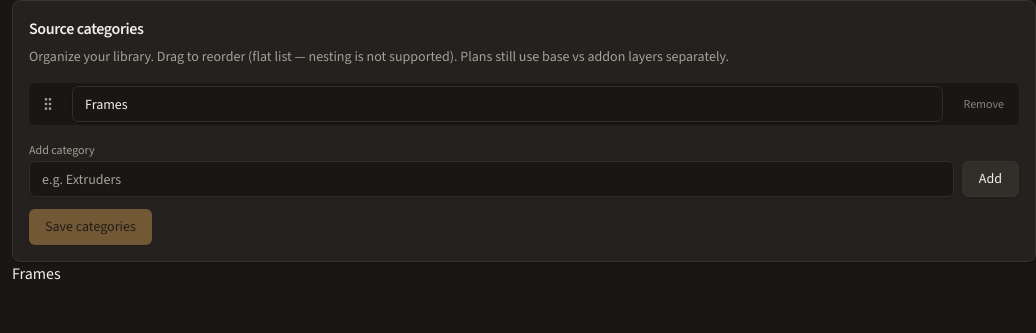
Test: SourceCategoryManager › keeps the edited draft when a save is rejected
Replace the text in the field named "Category 1" with "Edited frames" at (508, 104), box [72, 86, 943, 122]
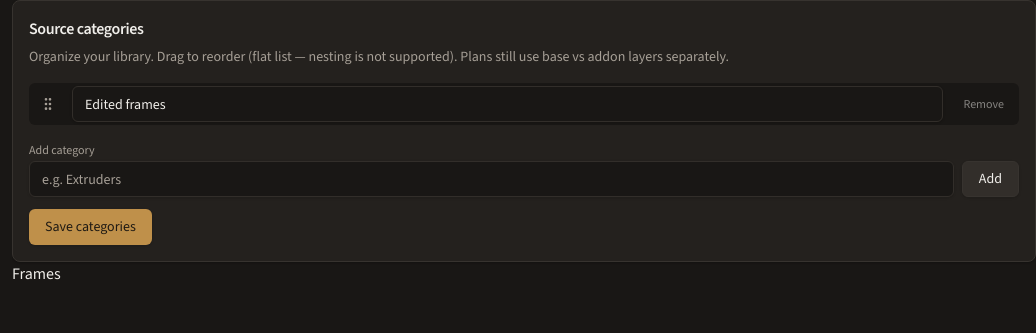
Click the button "Save categories" at (90, 227), box [29, 209, 152, 245]
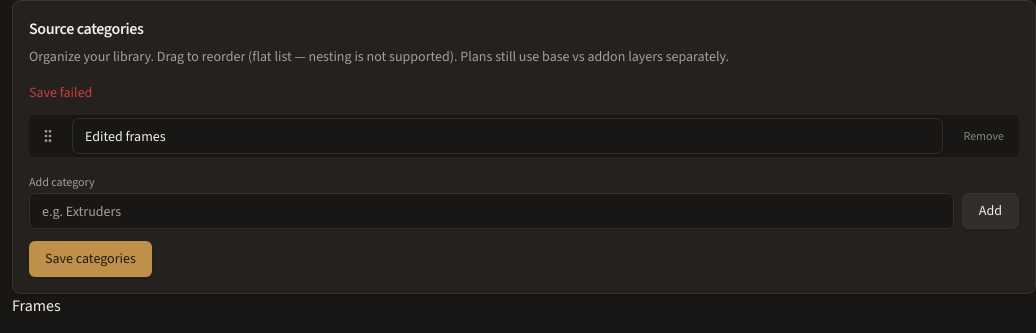
Expected: the text with test id "saved-categories" reads "Frames", [12, 295, 61, 316]
Expected: the text "Save failed" is shown, [29, 83, 92, 102]
